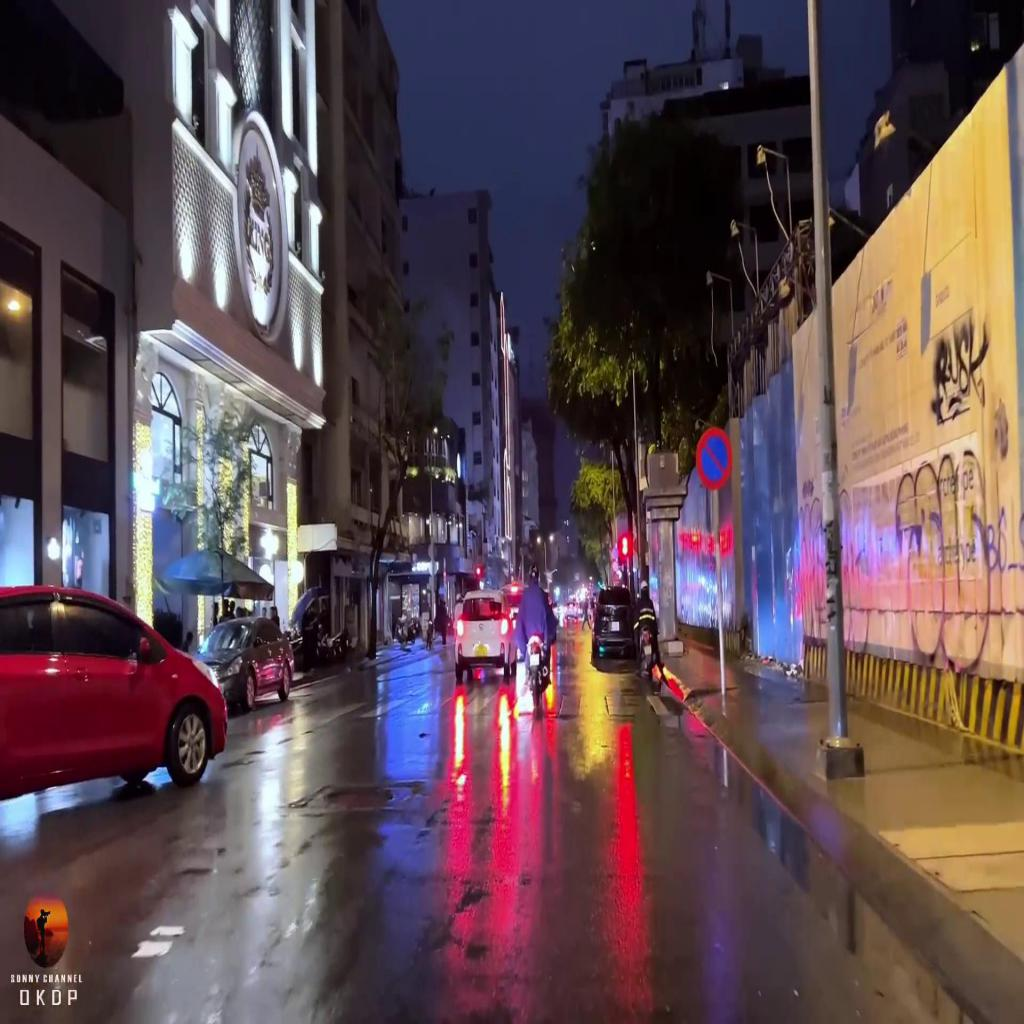cam_do_xe: (696, 426, 733, 488)
